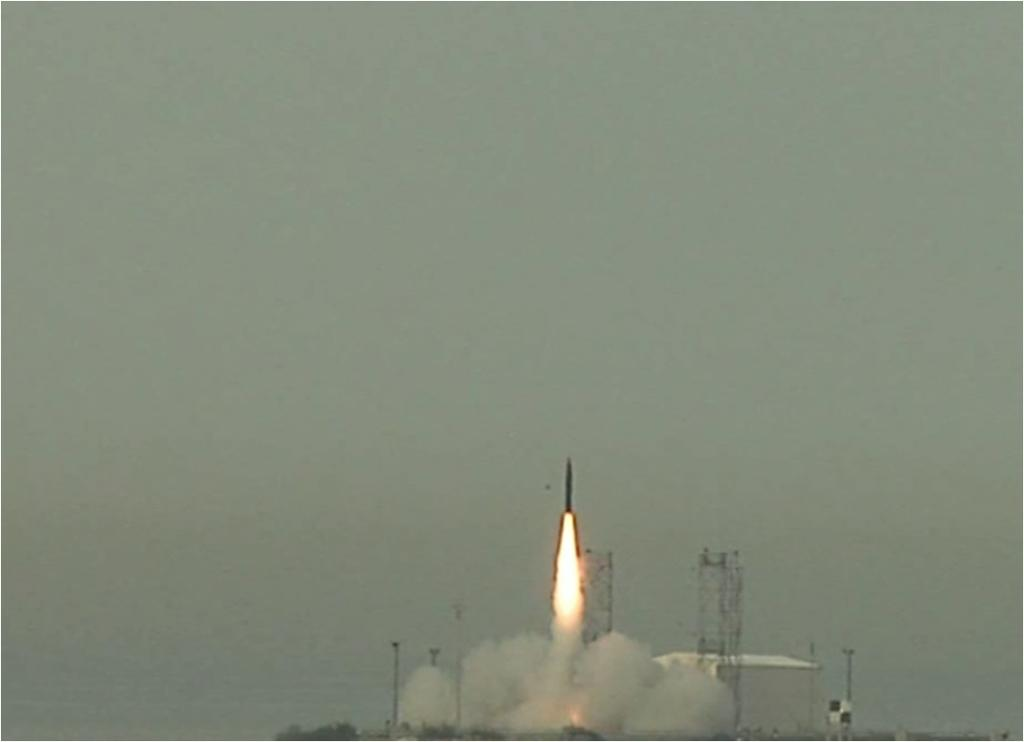Missile: (562, 455, 575, 516)
